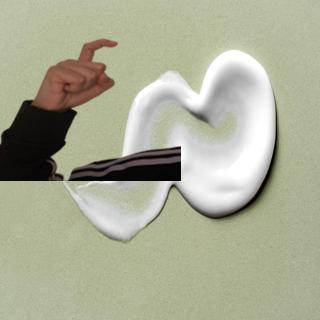WHY: (31, 30, 123, 111)
